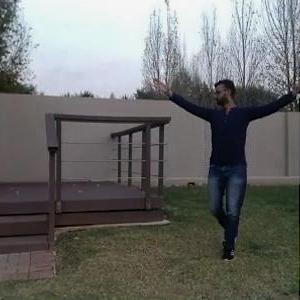takeoff: (146, 65, 299, 259)
